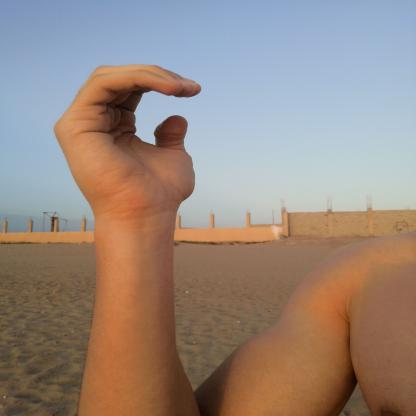JEEM: (36, 53, 215, 216)
